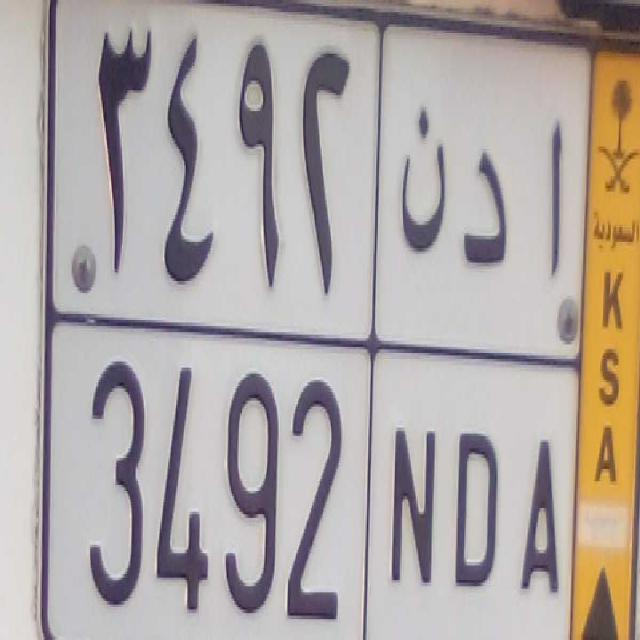license_plate: (48, 309, 576, 640)
